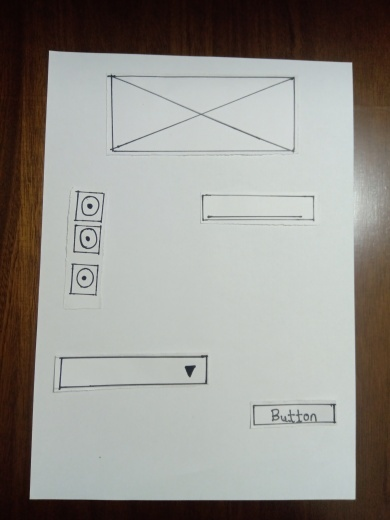button: (251, 403, 340, 425)
dropdown: (53, 354, 206, 389)
img: (110, 75, 295, 155)
radio: (78, 191, 102, 219), (71, 264, 95, 292), (74, 224, 98, 252)
text: (201, 196, 316, 221)
